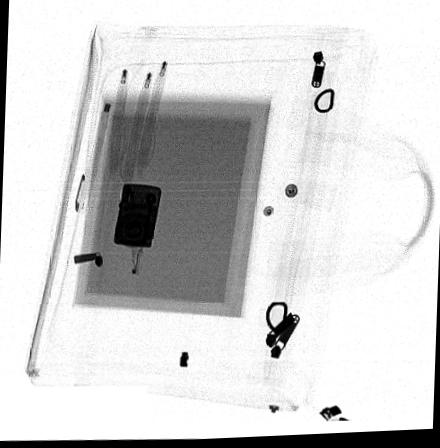Lighter: (112, 183, 161, 249)
